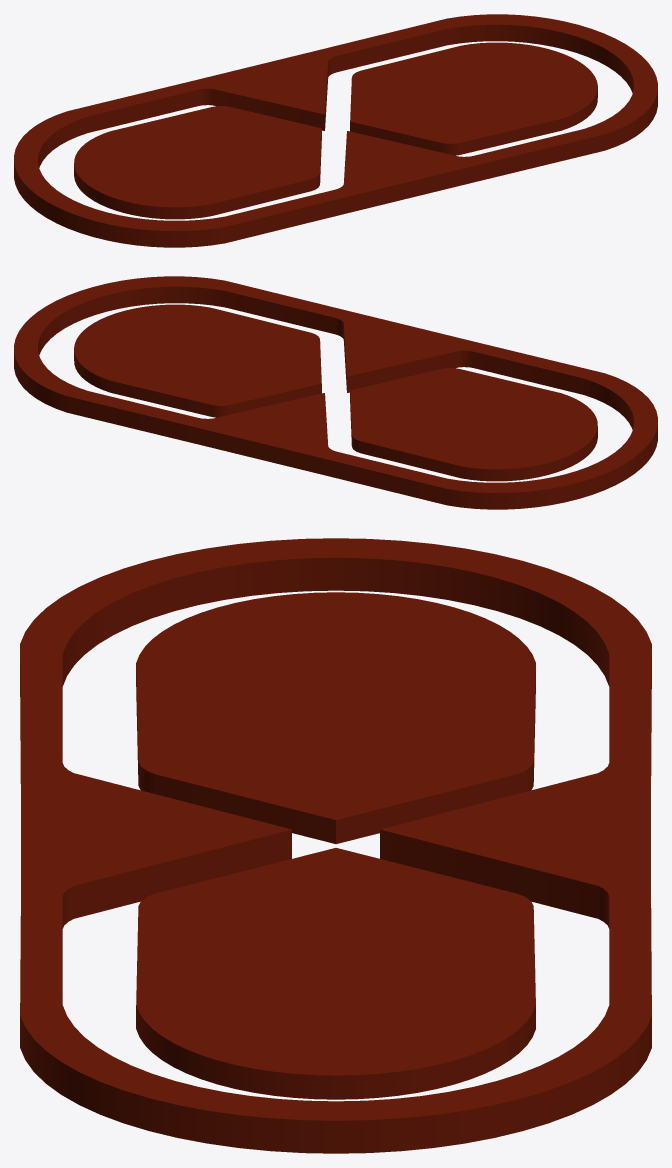
The model's file is map1_UBRA.fbx.
3 renders of one model, top to bottom at view 1: azimuth 30°, elevation 25°; view 2: azimuth 150°, elevation 25°; view 3: azimuth 270°, elevation 25°, orthographic. The views are drawn at different scales.
Parts seen in each view (by area): view 1: Obstacles; view 2: Obstacles; view 3: Obstacles.
Part boxes in pixels (x1=…): Obstacles: x1=14, y1=14, x2=657, y2=247; Obstacles: x1=14, y1=276, x2=657, y2=509; Obstacles: x1=20, y1=538, x2=651, y2=1153.
Size of the model in its own units: 301706 by 7968 by 138331.
